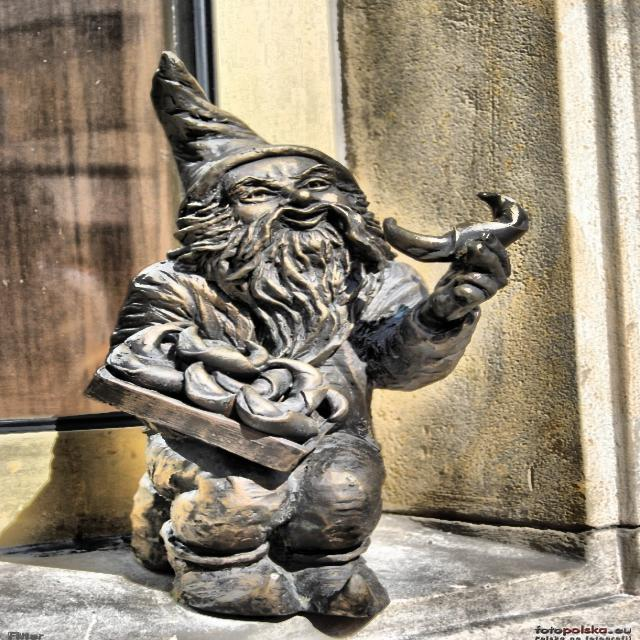Rogalik: (85, 52, 527, 618)
